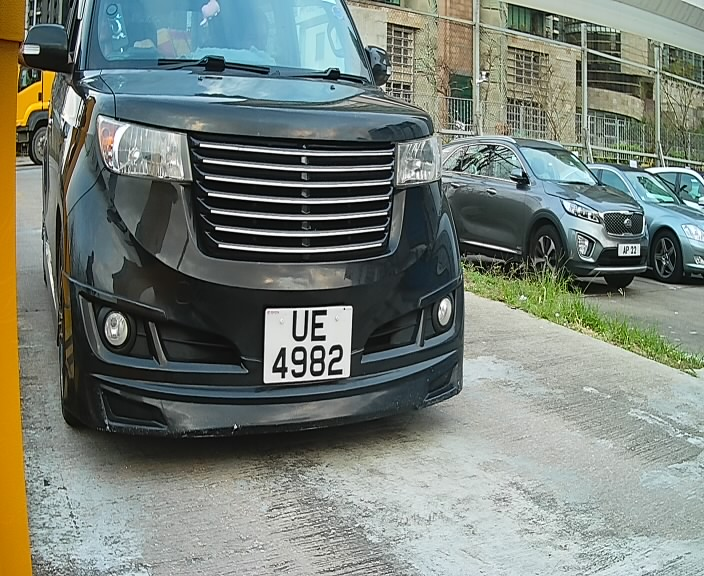Car: (31, 2, 470, 473)
License Plate: (259, 301, 360, 392)
